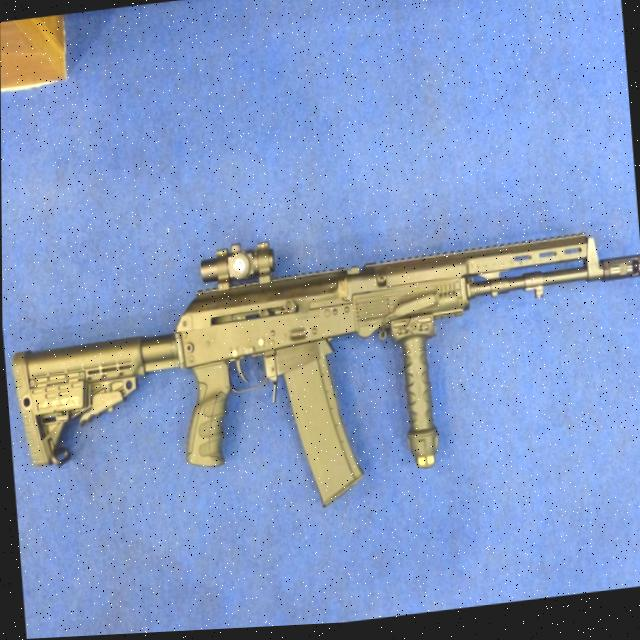firearm: (2, 202, 640, 540)
